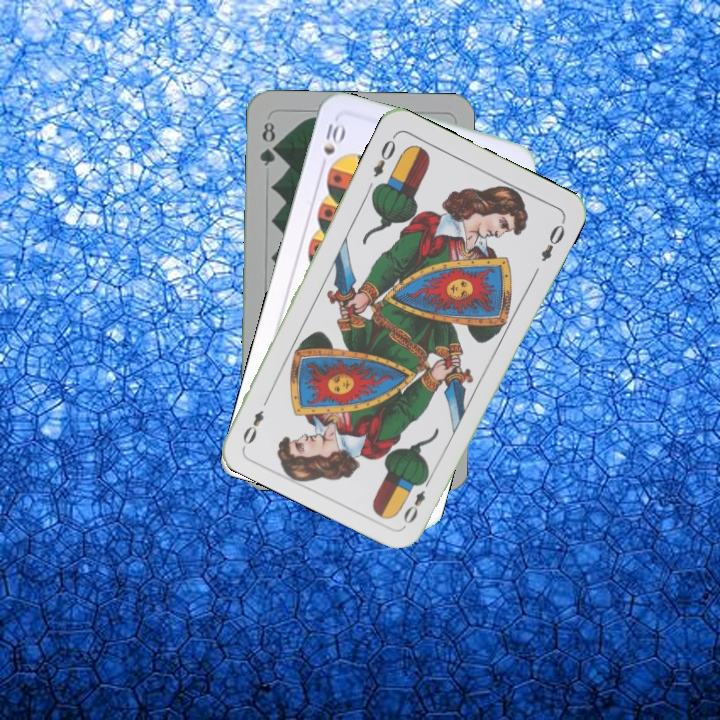EO: (399, 472, 434, 527), (369, 131, 399, 180)
G8: (255, 118, 279, 169)
S10: (316, 119, 348, 173)
